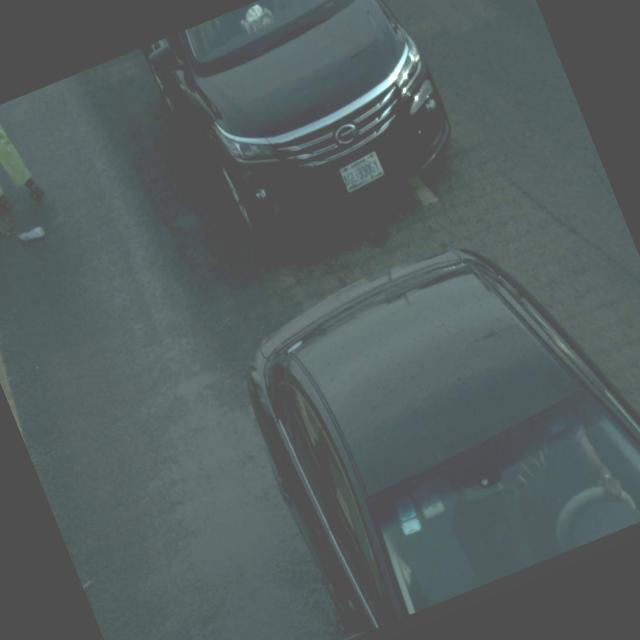windshield: (349, 383, 640, 628)
